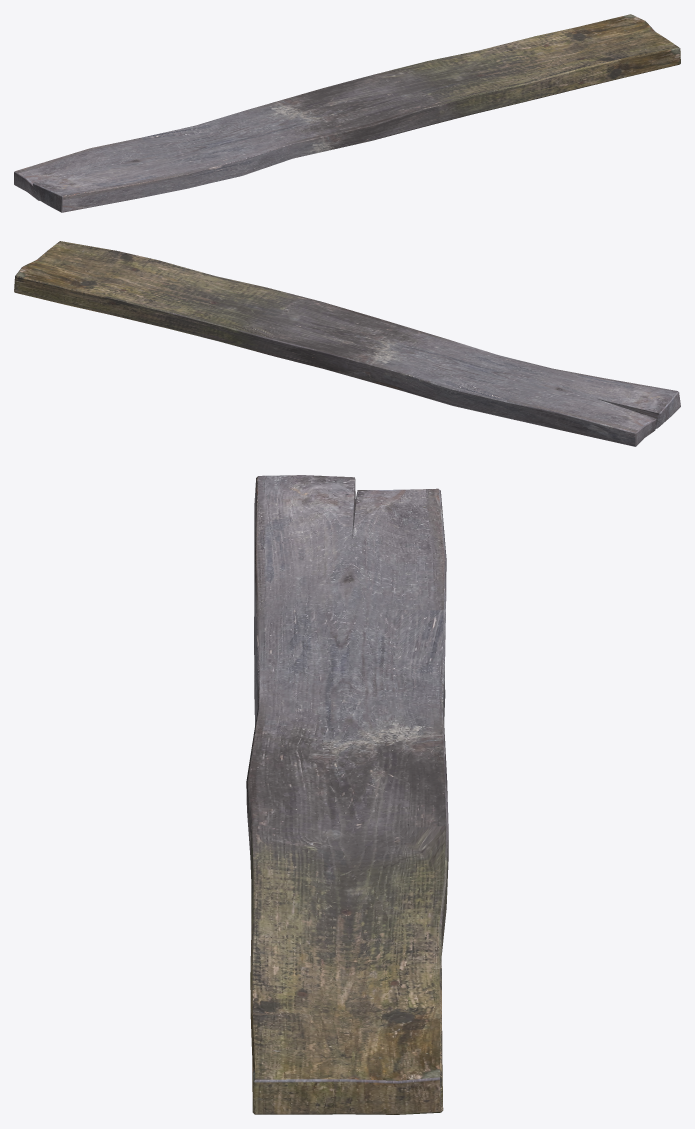
The model's file is SM_WoodPlank_01_02.fbx.
3 views of the same model, one above another, from view 1: azimuth 30°, elevation 25°; view 2: azimuth 150°, elevation 25°; view 3: azimuth 270°, elevation 25° (orthographic). The views are drawn at different scales.
Parts seen in each view (by area): view 1: sm_WoodPlank_01_02_LOD0; view 2: sm_WoodPlank_01_02_LOD0; view 3: sm_WoodPlank_01_02_LOD0.
Boxes of the visible parts, x1,y1,x2,y2 form: sm_WoodPlank_01_02_LOD0: (14,14,680,212); sm_WoodPlank_01_02_LOD0: (14,241,680,446); sm_WoodPlank_01_02_LOD0: (246,475,448,1114).
Size of the model in its own units: 14.12 by 101 by 4.18.
